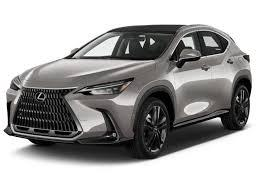lexus: (35, 88, 50, 105)
